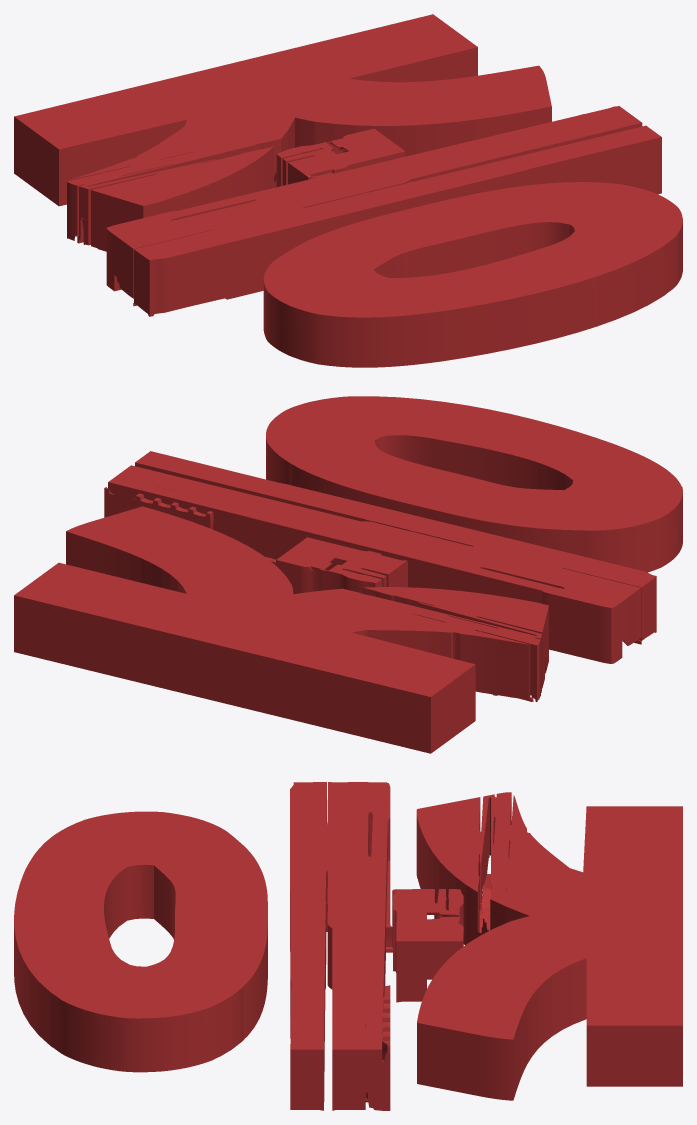
The model's file is jong.fbx.
3 renders of one model, top to bottom at view 1: azimuth 30°, elevation 25°; view 2: azimuth 150°, elevation 25°; view 3: azimuth 270°, elevation 25°, orthographic. The views are drawn at different scales.
Visible parts, largest first — view 1: Curve, Curve.001, Curve.002; view 2: Curve, Curve.001, Curve.002; view 3: Curve, Curve.001, Curve.002.
Boxes of the visible parts, x1,y1,x2,y2 form: Curve: (14,14,551,251); Curve.001: (263,182,682,367); Curve.002: (106,106,661,316); Curve: (14,506,548,753); Curve.001: (266,396,682,572); Curve.002: (104,451,656,663); Curve: (416,792,682,1100); Curve.001: (14,811,267,1072); Curve.002: (290,782,463,1110).
Size of the model in its own units: 655 by 70 by 692.
